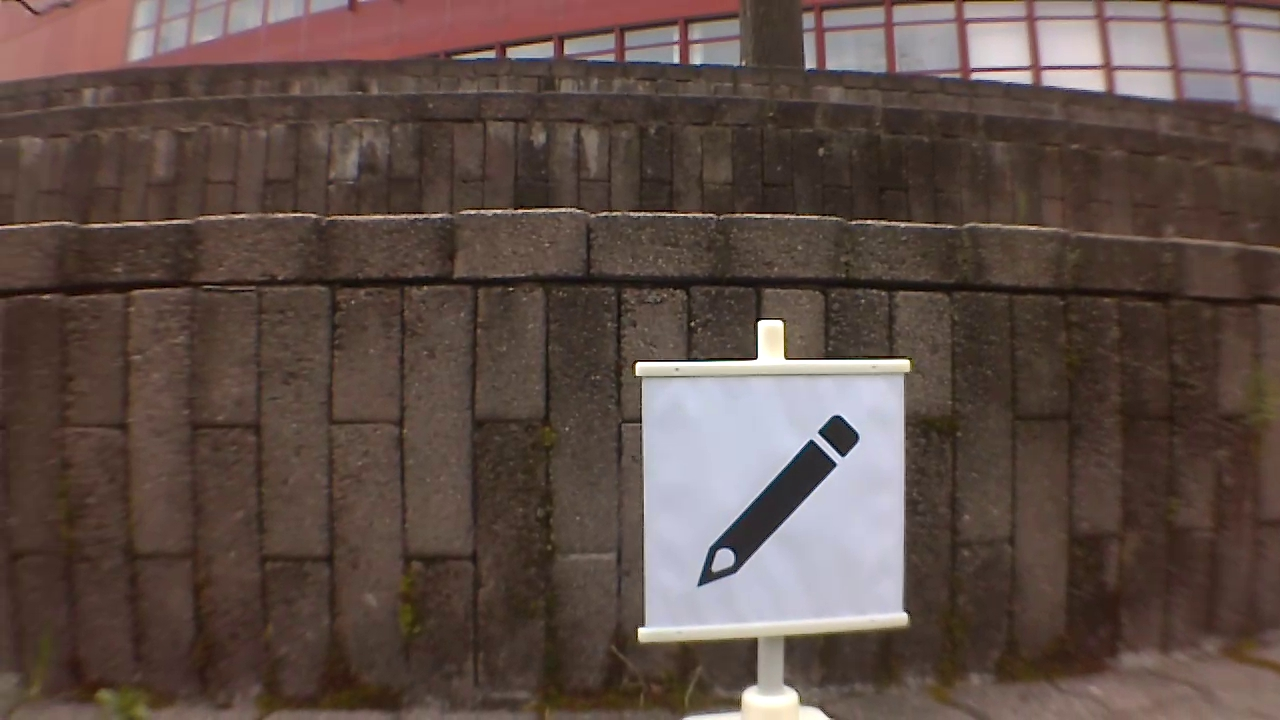pencil: (692, 410, 870, 591)
